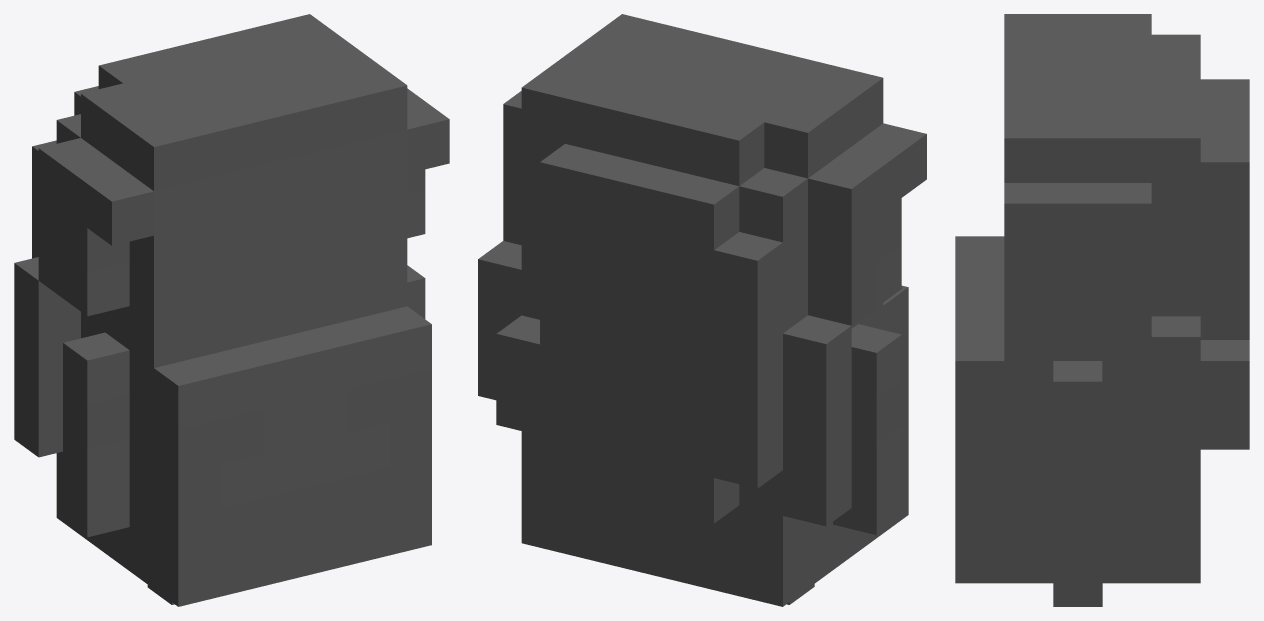
Rendered from chr_sports4.obj.
The picture shows the model from 3 angles, left to right: view 1: azimuth 30°, elevation 25°; view 2: azimuth 150°, elevation 25°; view 3: azimuth 270°, elevation 25°; orthographic projection. The views are drawn at different scales.
Bounding box in the file's own units: 8 × 11 × 6.
